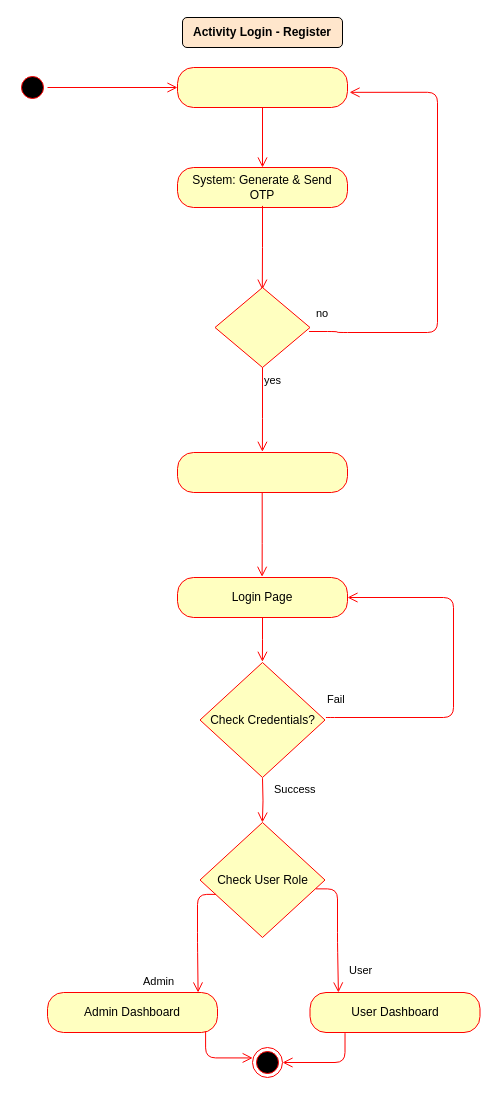
The diagram is 498 pixels wide and 1095 high, and some of its shapes have lost their labels. The shapes that lost their labels are listed below. From the top down, each one's centre as x and y in pixels, then its label:
At (262,87): "Register with Full Name & Email".
At (262,327): "OTP Correct?".
At (262,472): "User Data Saved to DB".
